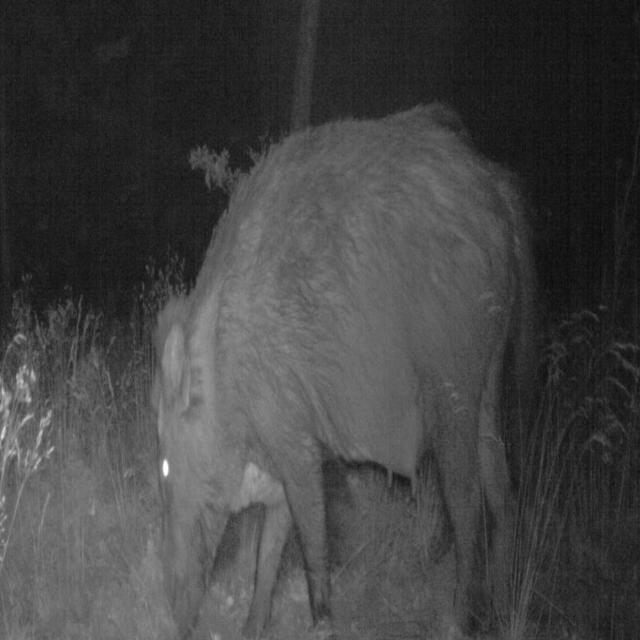pig: (143, 69, 557, 610)
